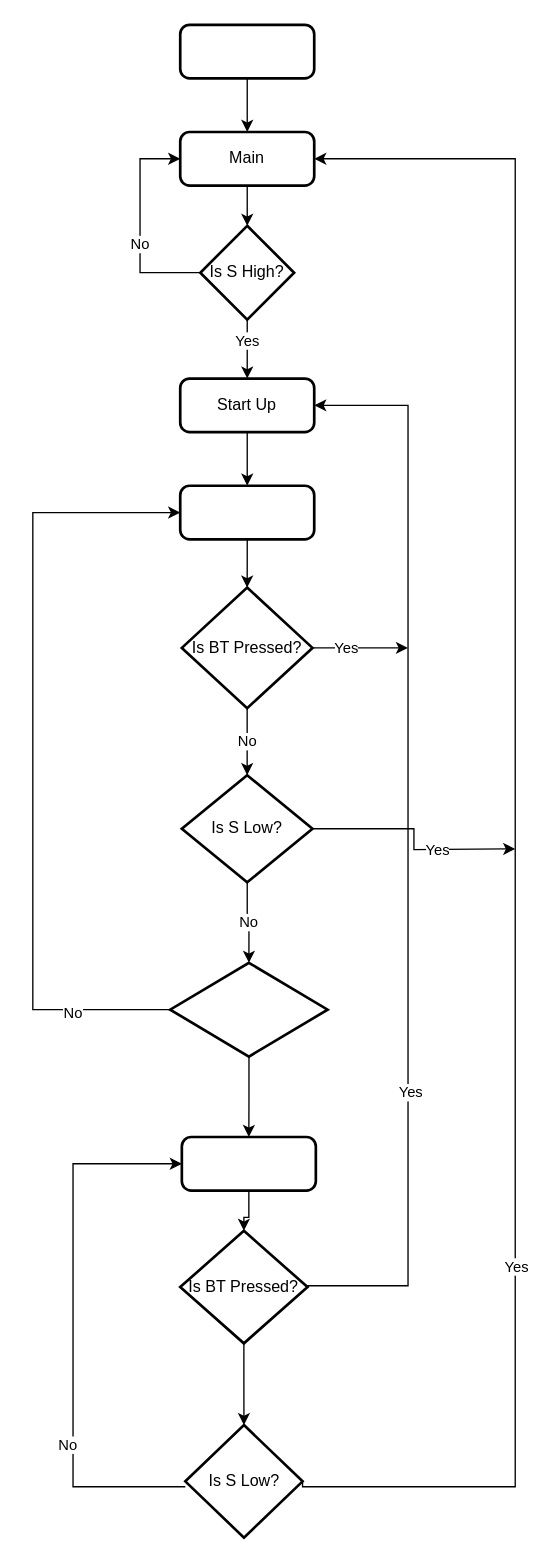
Some shapes in this 551 by 1561 pixel diagram are drawn without their labels. The centre of each missing label's shape, as x and y in pixels:
"Blink And Noise" goes at [248,1163].
"Configure I/O" goes at [246,51].
"Has time run out?" goes at [248,1009].
"Wait Time" goes at [246,512].
